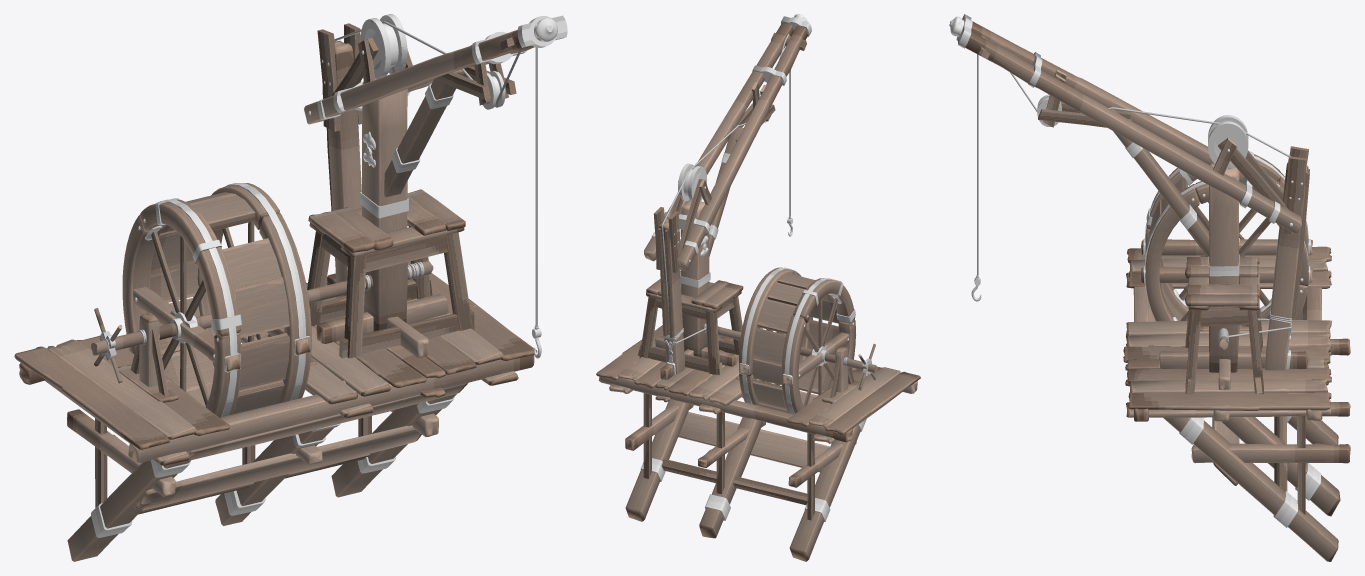
Rendered from SM_Crane_03.fbx.
The picture shows the model from 3 angles, left to right: view 1: azimuth 30°, elevation 25°; view 2: azimuth 150°, elevation 25°; view 3: azimuth 270°, elevation 25°; orthographic projection. The views are drawn at different scales.
Parts seen in each view (by area): view 1: SM_Crane_03_LOD0; view 2: SM_Crane_03_LOD0; view 3: SM_Crane_03_LOD0.
Boxes of the visible parts, x1,y1,x2,y2 form: SM_Crane_03_LOD0: (14, 14, 567, 561); SM_Crane_03_LOD0: (596, 14, 920, 561); SM_Crane_03_LOD0: (949, 14, 1350, 561).
Bounding box in the file's own units: 761 × 811 × 1179.
